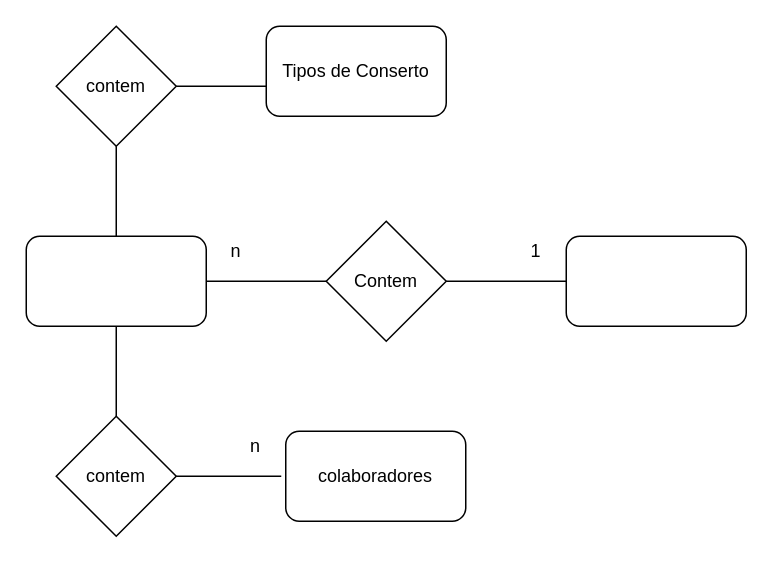
This 773x563 diagram has some shape labels left out. Here are the shapes that lost their labels. From the top down, the box of each, then its label:
(25, 235, 206, 326): Aparelhos
(565, 235, 746, 326): Clientes
